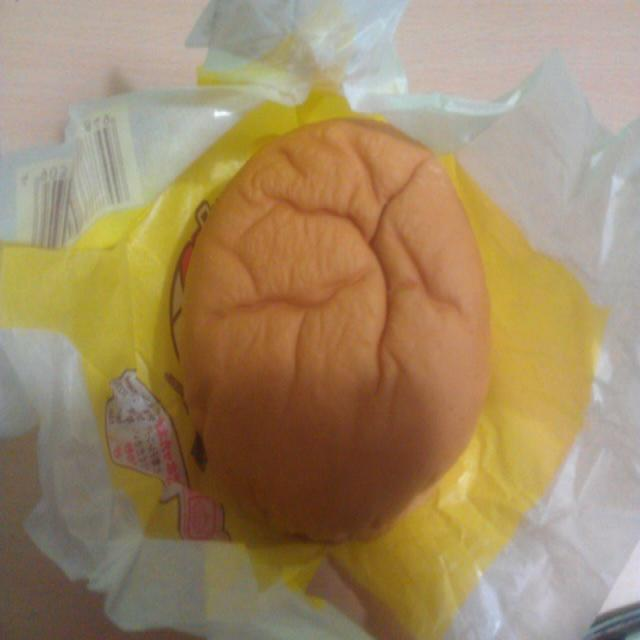Hamburger: (161, 112, 504, 554)
